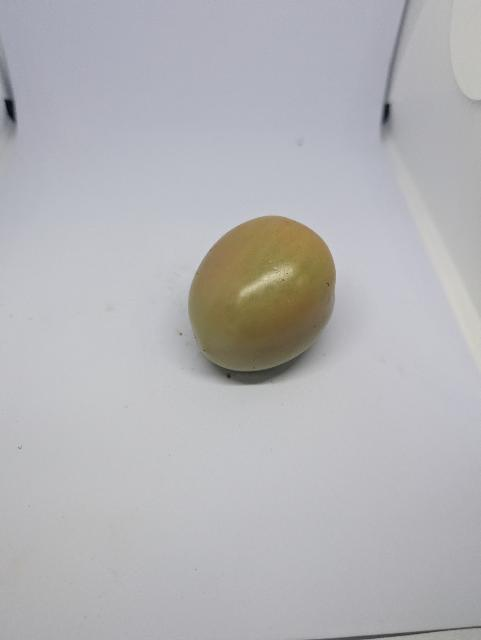breaker: (178, 206, 357, 382)
